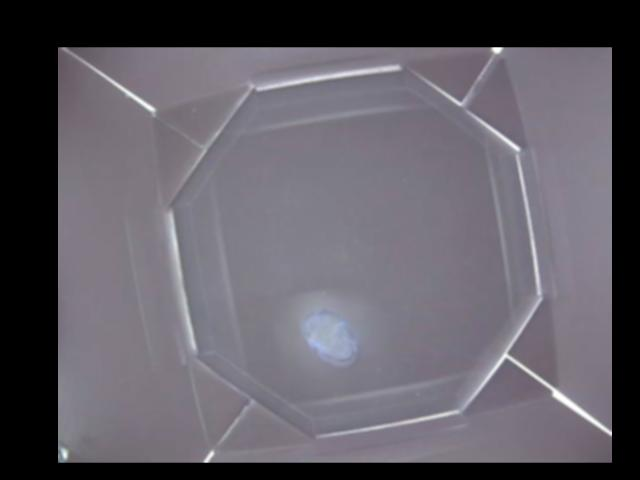Pebble: (302, 309, 356, 366)
